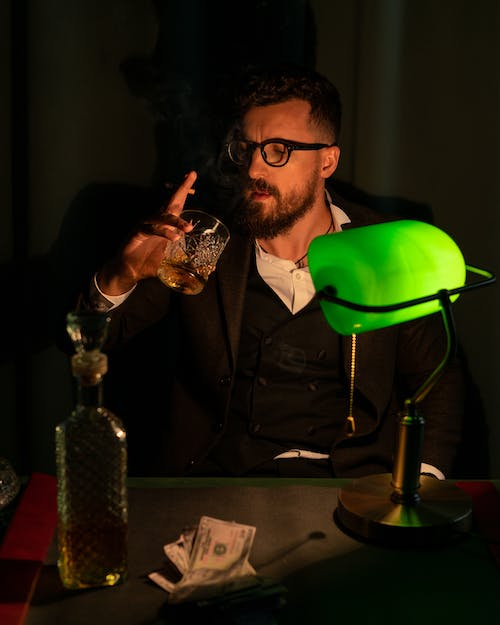alcohol: (51, 349, 133, 593), (151, 209, 233, 299)
cigarette: (163, 179, 200, 196)
